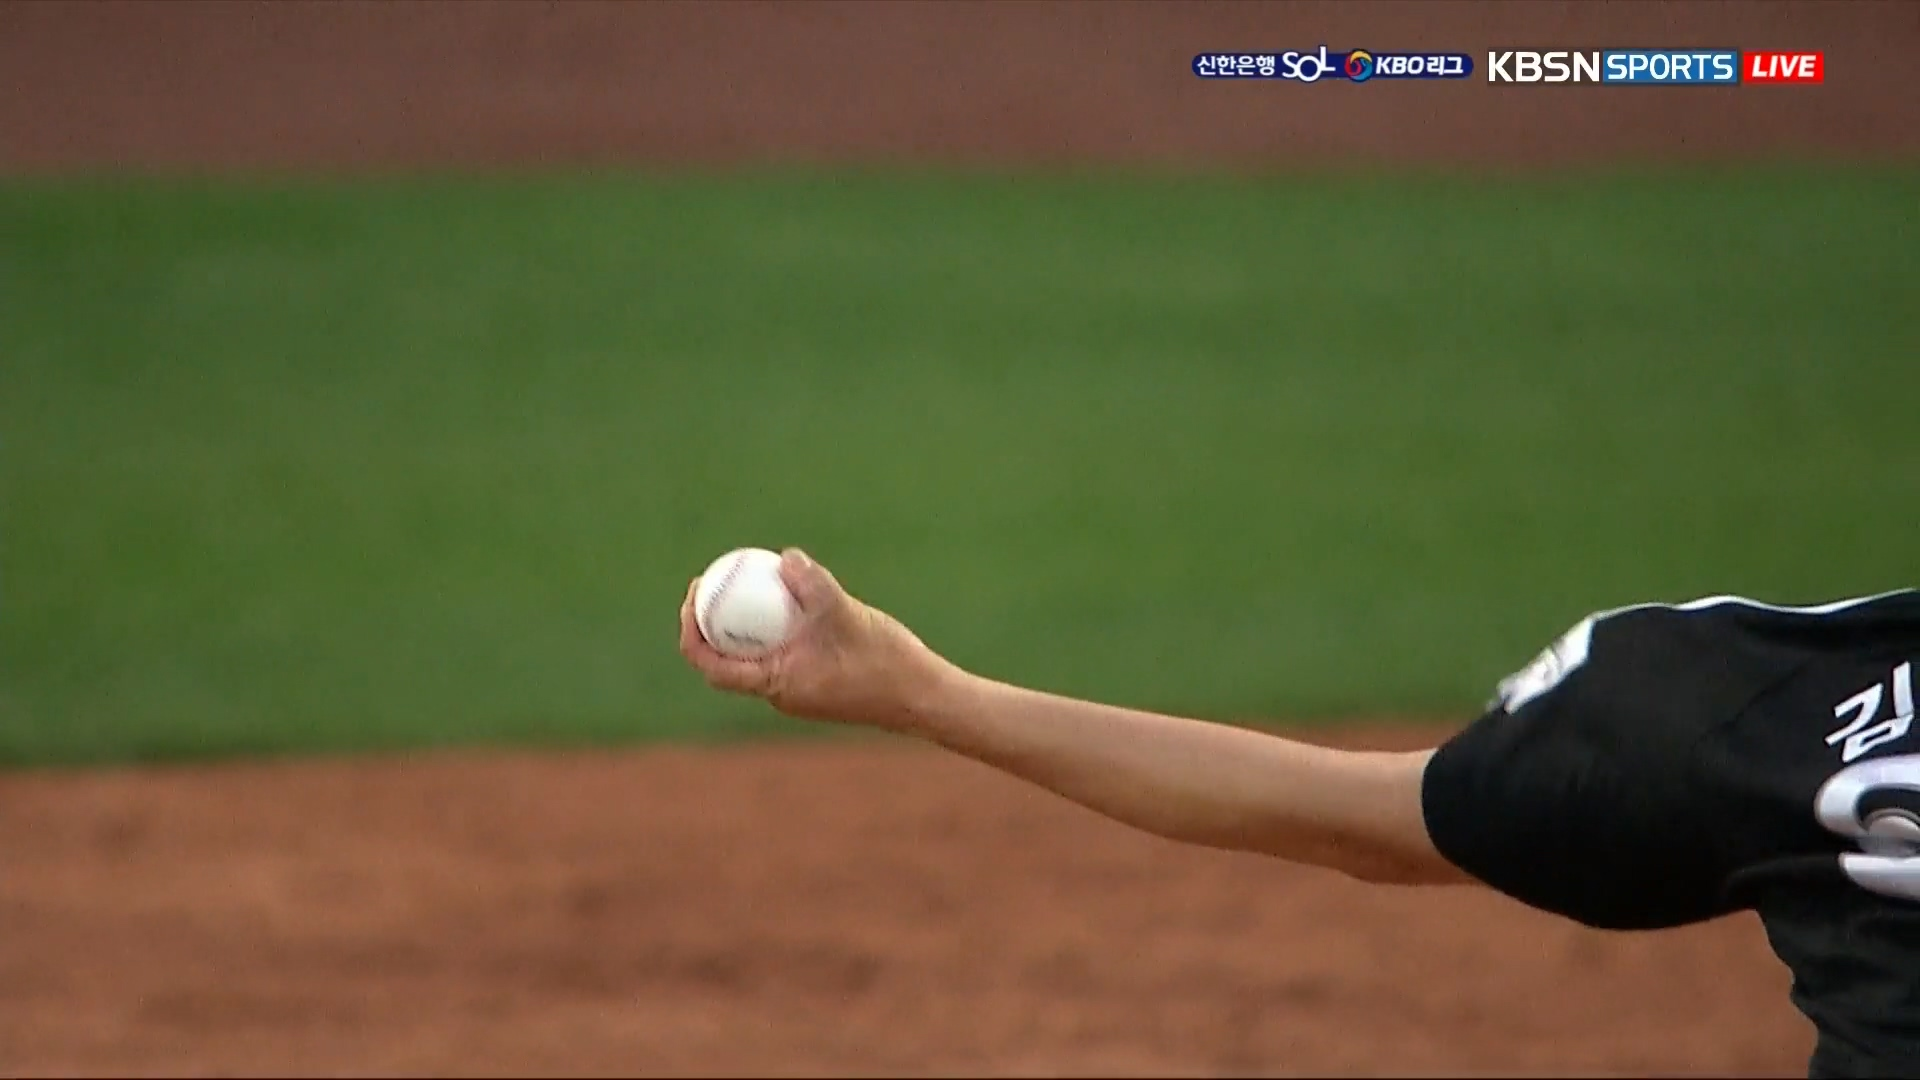zoomin_hand: (669, 537, 1403, 919)
